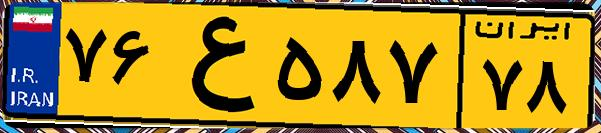5: (270, 28, 330, 110)
6: (110, 28, 158, 98)
7: (385, 28, 445, 110), (57, 26, 110, 100), (475, 38, 525, 113)
8: (330, 28, 385, 110), (525, 38, 570, 115)
ع: (158, 12, 270, 120)
